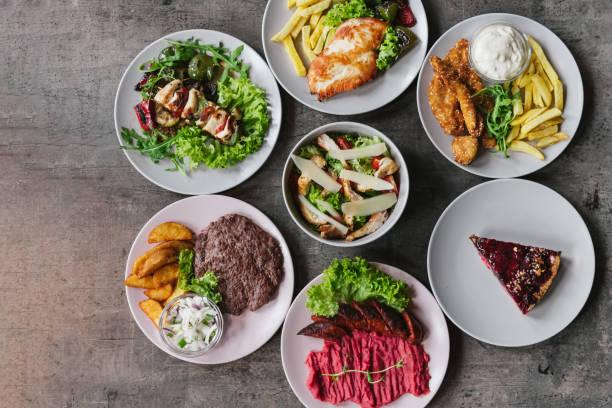Braised Crucian Carp: (421, 174, 598, 348), (414, 12, 585, 181), (124, 193, 293, 364), (114, 28, 280, 194), (278, 261, 451, 406), (261, 0, 427, 116), (281, 121, 410, 246)
